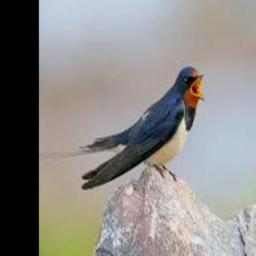Swallow: (79, 67, 204, 190)
